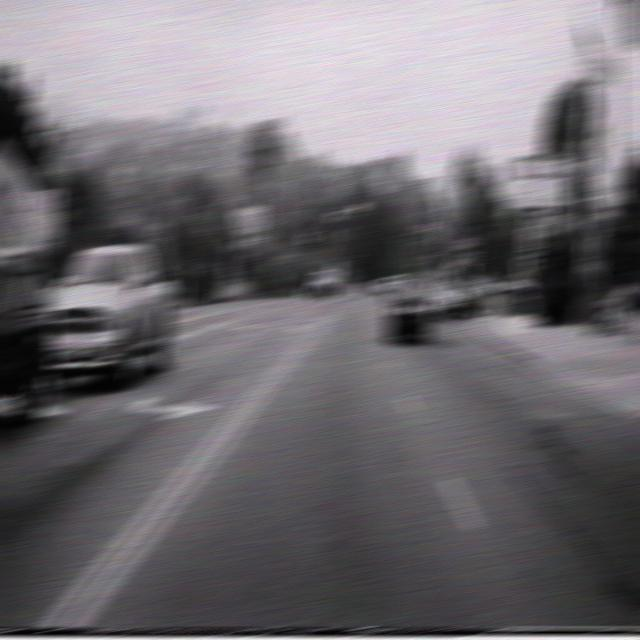speedLimit35: (521, 223, 540, 250)
